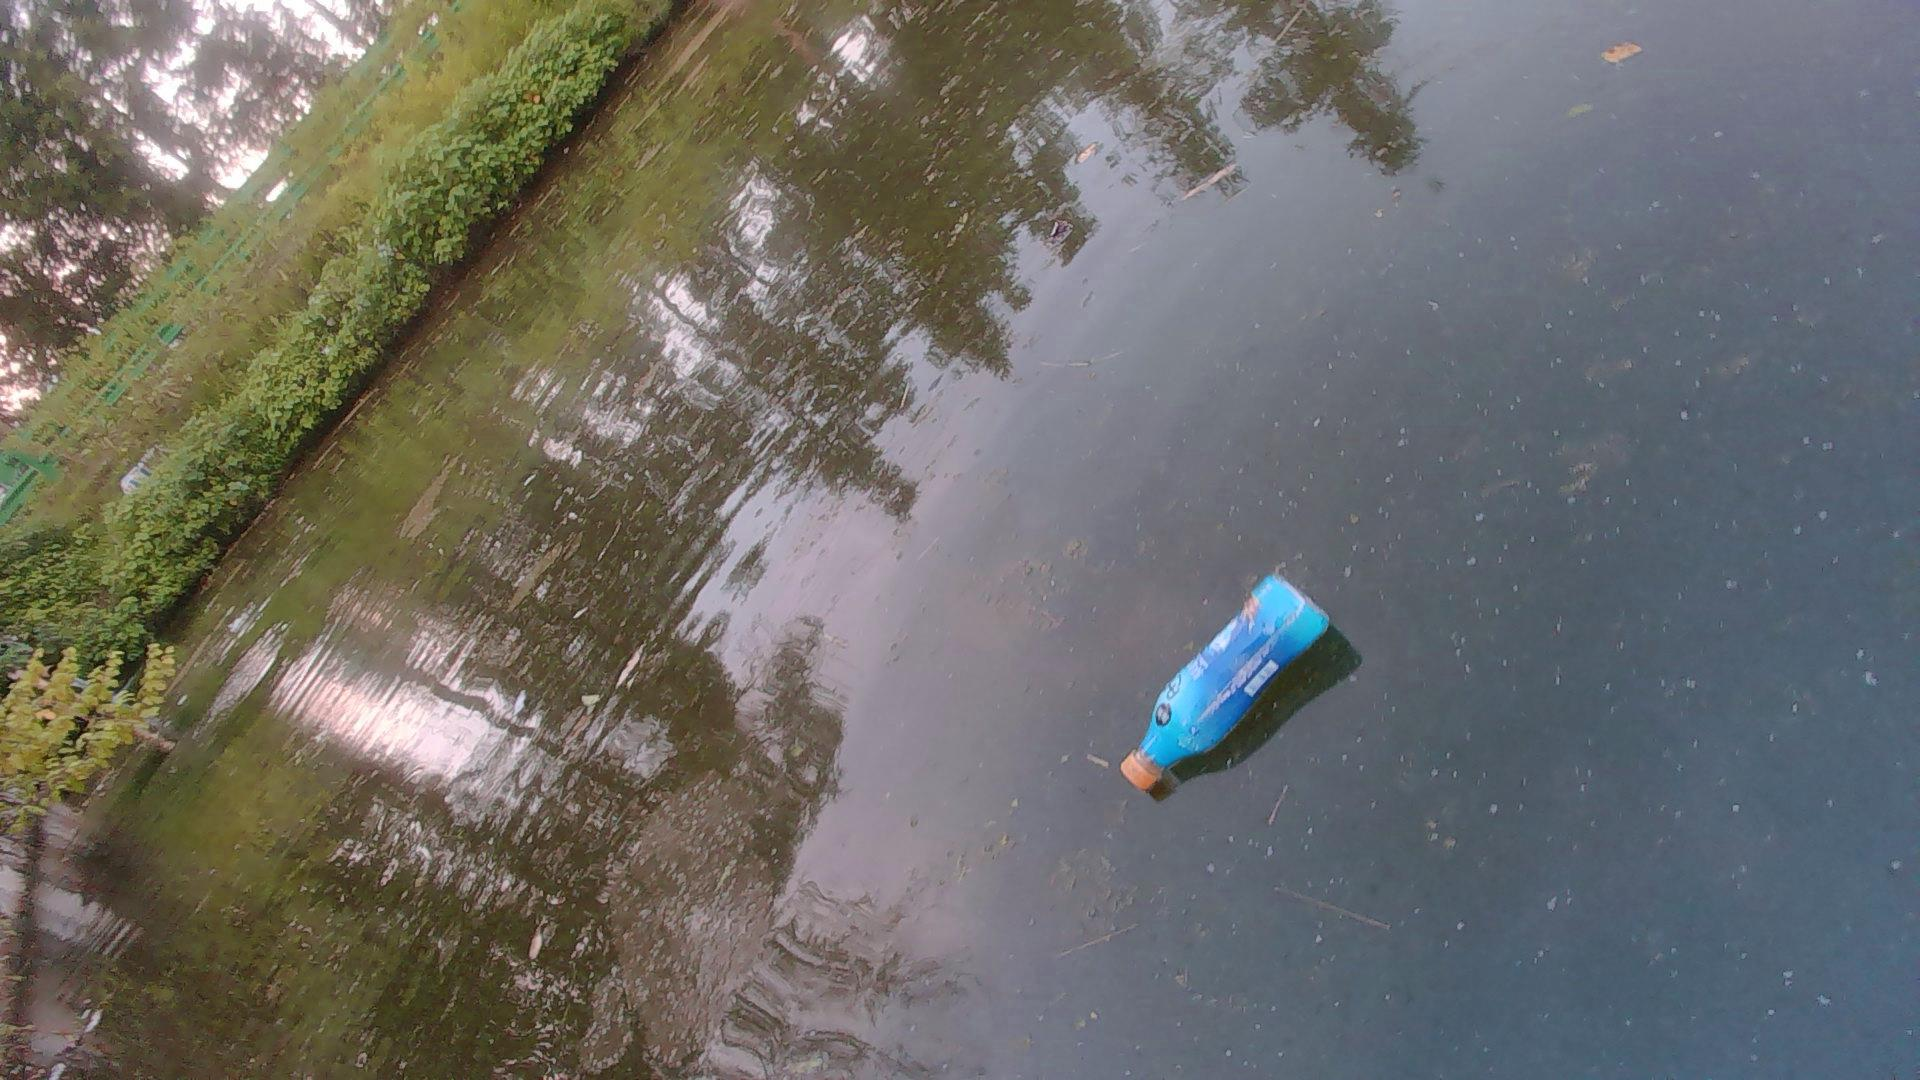Plastic: (1117, 574, 1336, 796)
